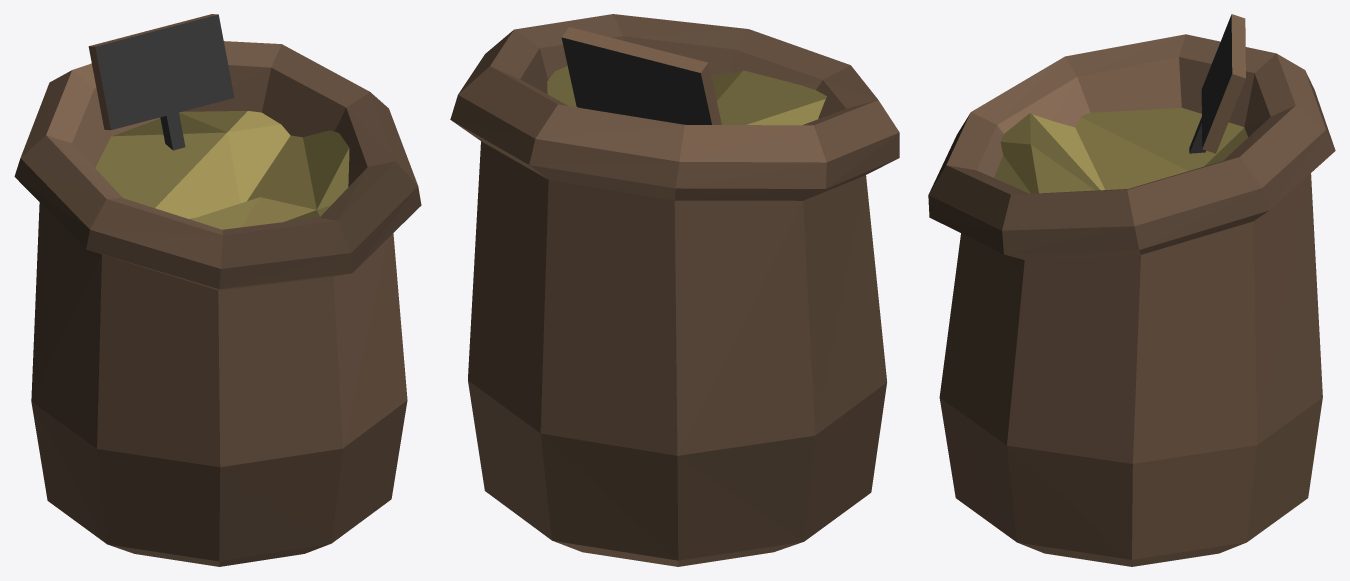
File: Prop_GrainBagB.fbx
3 renders of one model, left to right at view 1: azimuth 30°, elevation 25°; view 2: azimuth 150°, elevation 25°; view 3: azimuth 270°, elevation 25°, orthographic. The views are drawn at different scales.
Parts seen in each view (by area): view 1: Prop_GrainBagB; view 2: Prop_GrainBagB; view 3: Prop_GrainBagB.
Boxes of the visible parts, x1=… form: Prop_GrainBagB: x1=14, y1=14, x2=421, y2=566; Prop_GrainBagB: x1=450, y1=14, x2=899, y2=566; Prop_GrainBagB: x1=928, y1=14, x2=1335, y2=566.
Bounding box in the file's own units: 55.55 × 69.31 × 55.66.
